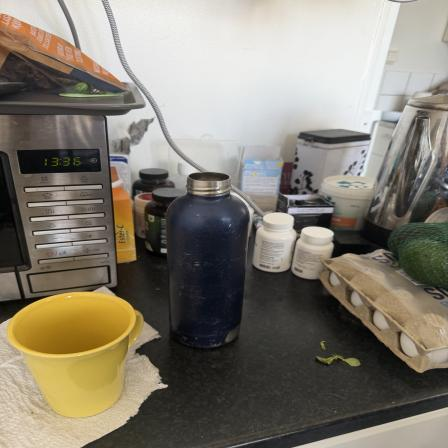blue_bottle: (166, 172, 249, 350)
yellow_cup: (9, 291, 144, 419)
